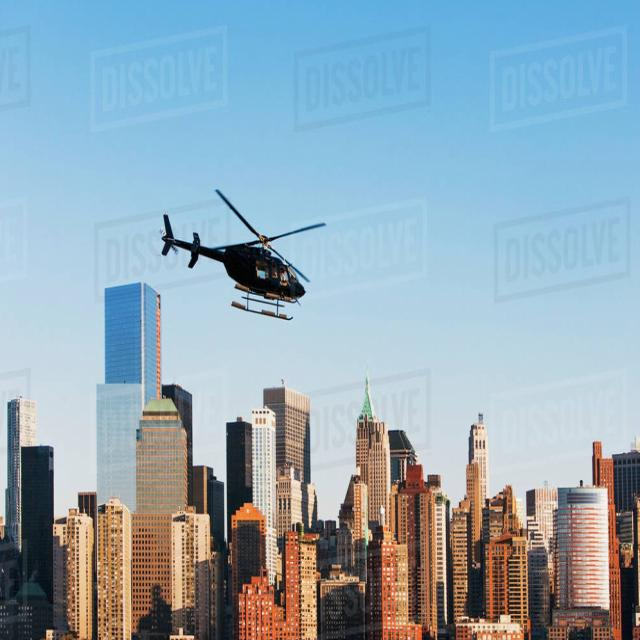helicopter: (162, 188, 326, 323)
